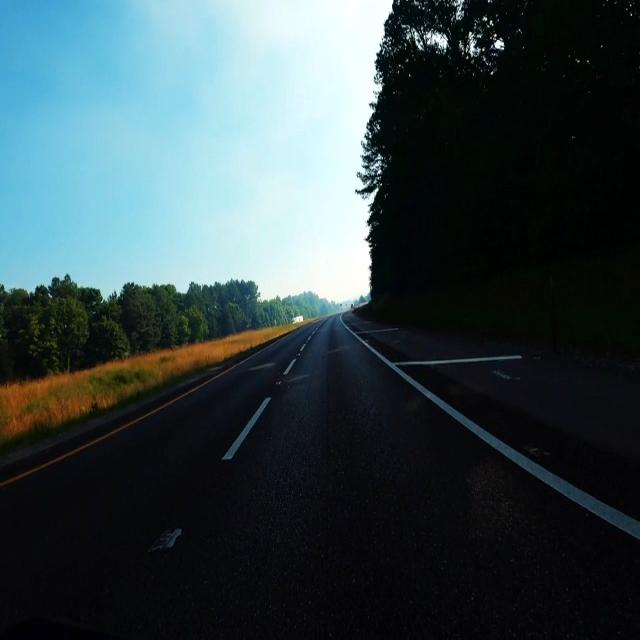lane: (340, 317, 640, 539), (0, 359, 248, 488), (222, 398, 270, 459), (284, 359, 296, 376)
road: (0, 316, 640, 637), (412, 367, 640, 519), (556, 362, 640, 452)
